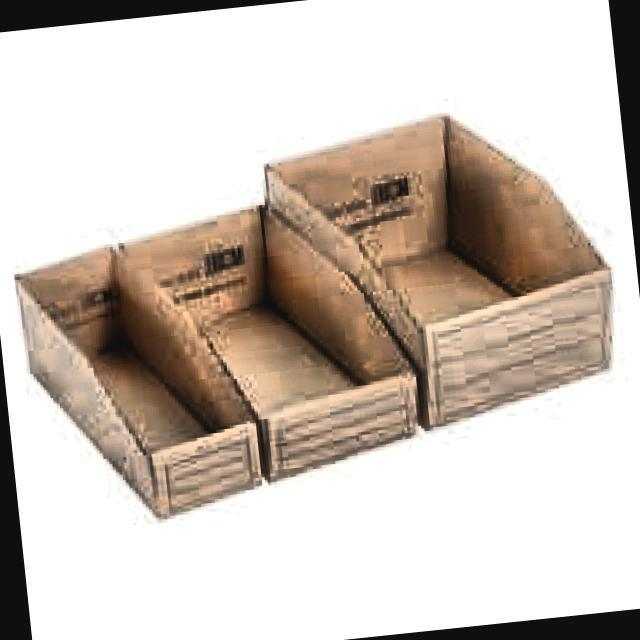cardboard: (2, 94, 634, 532)
